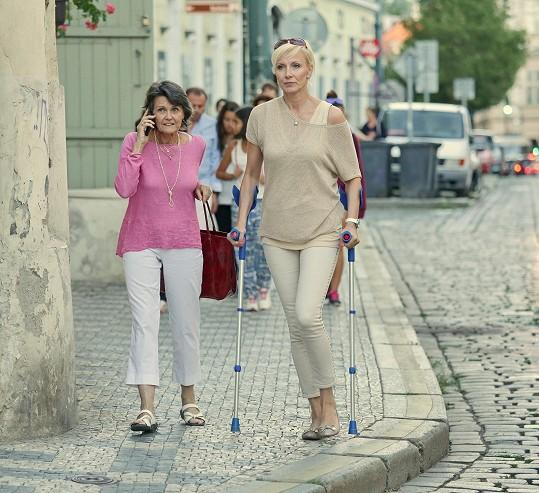crutches: (226, 31, 368, 444)
